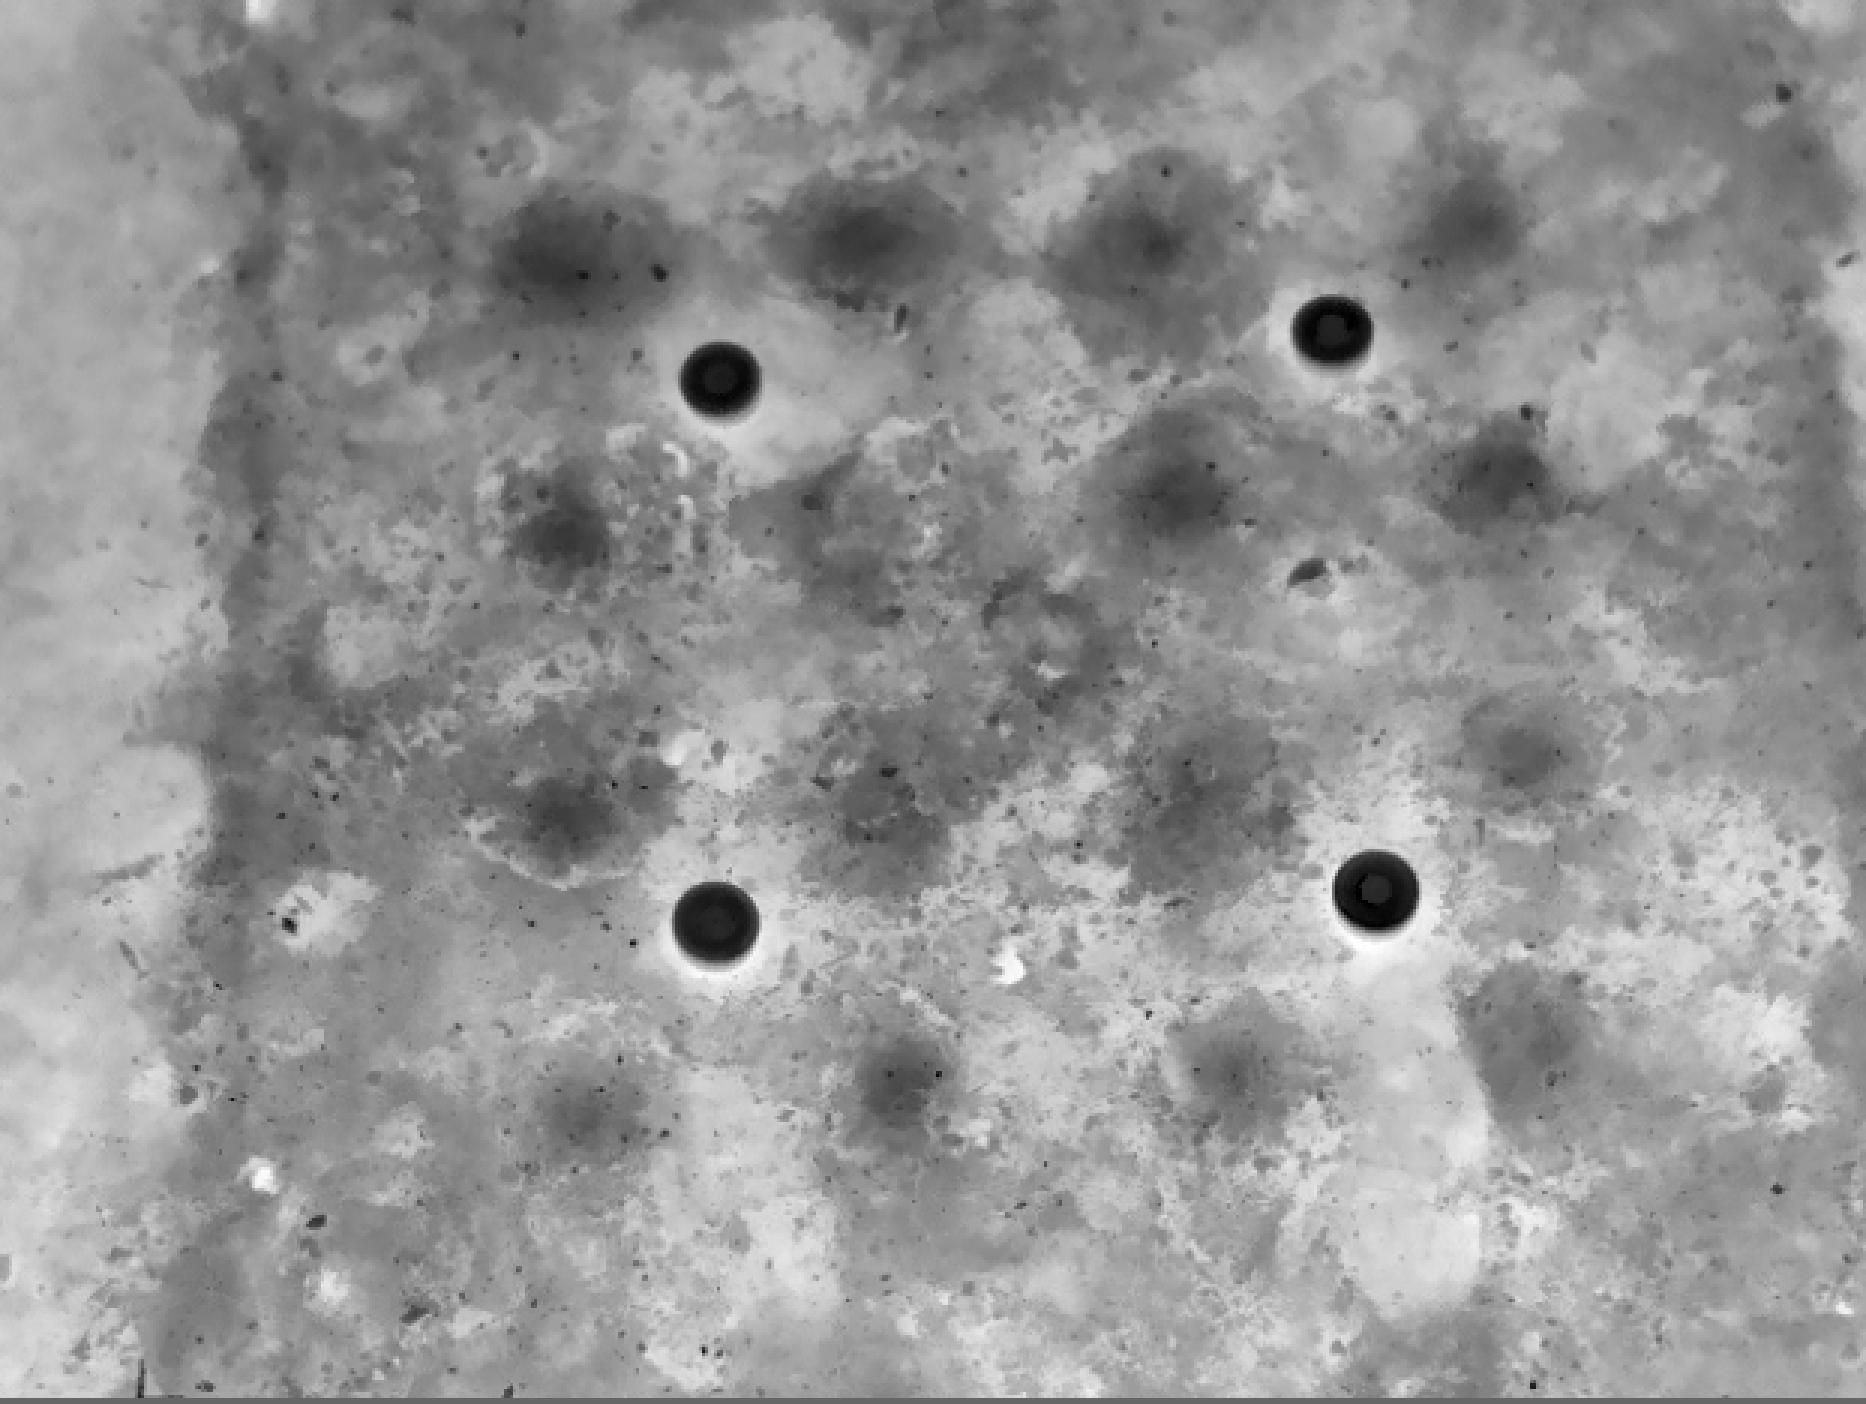mines-gjV8: (1328, 848, 1443, 954), (662, 888, 771, 967), (676, 335, 769, 428), (1292, 288, 1381, 364)
